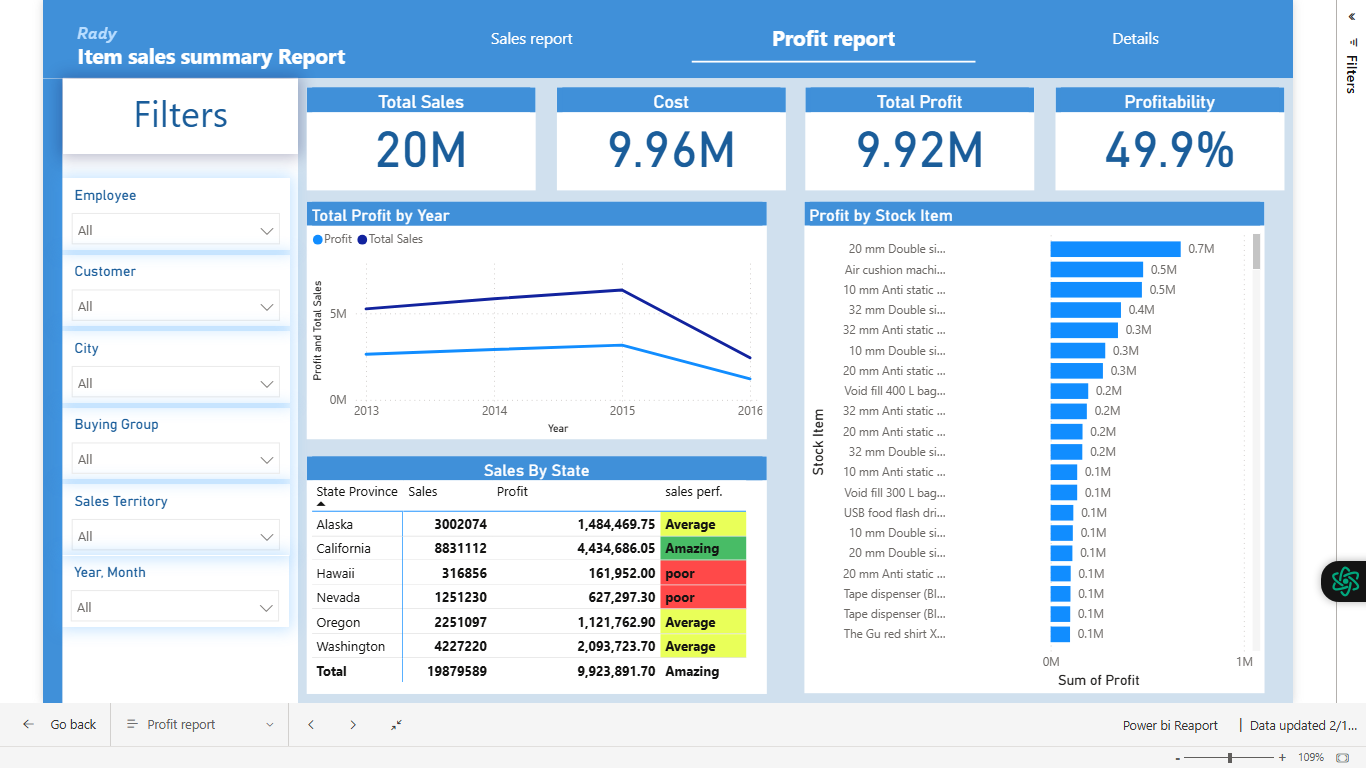

What the dashboard file says about the page in this screenshot:
{"tool":"powerbi","page":{"name":"Profit report","canvas":[1280,720],"ordinal":1},"visuals":[{"type":"shape","box":[0,0,1280,80],"z":0},{"type":"shape","box":[0,80,20,640],"z":1000},{"type":"shape","box":[20.6,79.3,241,640.7],"z":2000},{"type":"textbox","box":[20,81.4,241.4,77.1],"z":4000},{"type":"cardVisual","title":"Total Sales","fields":{"Data":["Sum(FactSale.Total Excluding Tax)"]},"box":[270.4,89.6,234.2,105.5],"z":5000},{"type":"cardVisual","title":"Cost","fields":{"Data":["Sum(FactSale.cost)"]},"box":[525.8,89.6,234.2,105.5],"z":6000},{"type":"cardVisual","title":"Total Profit","fields":{"Data":["Sum(FactSale.Profit)"]},"box":[780.7,89.6,234.2,105.5],"z":7000},{"type":"cardVisual","title":"Profitability","fields":{"Data":["FactSale.profitability"]},"box":[1036.6,89.6,234.2,105.5],"z":8000},{"type":"lineChart","title":"Total Profit by Year","fields":{"Category":["DimDate.Date.Variation.Date Hierarchy.Year","DimDate.Date.Variation.Date Hierarchy.Quarter","DimDate.Date.Variation.Date Hierarchy.Month","DimDate.Date.Variation.Date Hierarchy.Day"],"Y":["Sum(FactSale.Profit)","Sum(FactSale.Total Excluding Tax)"]},"box":[270.4,206.7,471.3,242.9],"z":9000},{"type":"clusteredBarChart","title":"Profit by Stock Item","fields":{"Category":["DimStockItem.Stock Item"],"Y":["Sum(FactSale.Profit)"]},"box":[779.3,206.7,471.3,503.1],"z":10000},{"type":"pivotTable","title":"Sales By State","fields":{"Values":["Sum(FactSale.Total Excluding Tax)","Sum(FactSale.Profit)","FactSale.sales perf."],"Rows":["DimCity.State Province"]},"box":[270.4,467,471.3,242.9],"z":11000},{"type":"slicer","fields":{"Values":["DimEmployee.Employee"]},"box":[19.1,182.9,232.9,72.9],"z":12000},{"type":"textbox","box":[30,36,336,46],"z":13000},{"type":"slicer","fields":{"Values":["DimCustomer.Customer"]},"box":[19.1,261.1,232.9,72.9],"z":14000},{"type":"slicer","fields":{"Values":["DimCity.City"]},"box":[19.1,339.3,232.9,72.9],"z":15000},{"type":"slicer","fields":{"Values":["DimCity.Sales Territory"]},"box":[19.1,495.7,232.9,72.9],"z":16000},{"type":"slicer","fields":{"Values":["DimCustomer.Buying Group"]},"box":[19.1,417.5,232.9,72.9],"z":17000},{"type":"pageNavigator","box":[351,9.6,919.4,59.2],"z":18000},{"type":"textbox","box":[0,15,110,42.5],"z":19000},{"type":"slicer","fields":{"Values":["DimDate.Fiscal Year","DimDate.Fiscal Month Label"]},"box":[18.6,568.6,232.9,72.9],"z":19001}]}

Visuals, with their boxes on the page's 1280x720 design canvas (x1, y1, x2, y2). These are canvas units, not pixel positions in the 1366x768 screenshot, which may show the page scaled, cropped or inside an application window:
shape: {"x1": 0, "y1": 0, "x2": 1280, "y2": 80}
shape: {"x1": 0, "y1": 80, "x2": 20, "y2": 720}
shape: {"x1": 21, "y1": 79, "x2": 262, "y2": 720}
textbox: {"x1": 20, "y1": 81, "x2": 261, "y2": 158}
"Total Sales" cardVisual: {"x1": 270, "y1": 90, "x2": 505, "y2": 195}
"Cost" cardVisual: {"x1": 526, "y1": 90, "x2": 760, "y2": 195}
"Total Profit" cardVisual: {"x1": 781, "y1": 90, "x2": 1015, "y2": 195}
"Profitability" cardVisual: {"x1": 1037, "y1": 90, "x2": 1271, "y2": 195}
"Total Profit by Year" lineChart: {"x1": 270, "y1": 207, "x2": 742, "y2": 450}
"Profit by Stock Item" clusteredBarChart: {"x1": 779, "y1": 207, "x2": 1251, "y2": 710}
"Sales By State" pivotTable: {"x1": 270, "y1": 467, "x2": 742, "y2": 710}
slicer - DimEmployee.Employee: {"x1": 19, "y1": 183, "x2": 252, "y2": 256}
textbox: {"x1": 30, "y1": 36, "x2": 366, "y2": 82}
slicer - DimCustomer.Customer: {"x1": 19, "y1": 261, "x2": 252, "y2": 334}
slicer - DimCity.City: {"x1": 19, "y1": 339, "x2": 252, "y2": 412}
slicer - DimCity.Sales Territory: {"x1": 19, "y1": 496, "x2": 252, "y2": 569}
slicer - DimCustomer.Buying Group: {"x1": 19, "y1": 418, "x2": 252, "y2": 490}
pageNavigator: {"x1": 351, "y1": 10, "x2": 1270, "y2": 69}
textbox: {"x1": 0, "y1": 15, "x2": 110, "y2": 58}
slicer - DimDate.Fiscal Year x DimDate.Fiscal Month Label: {"x1": 19, "y1": 569, "x2": 252, "y2": 642}
